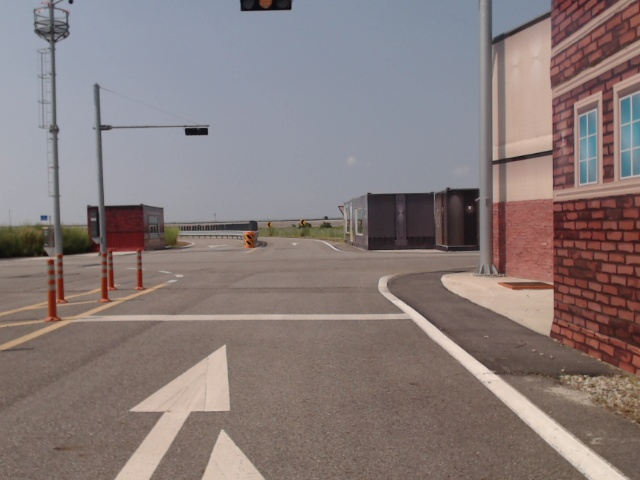orange_3: (241, 0, 296, 11)
